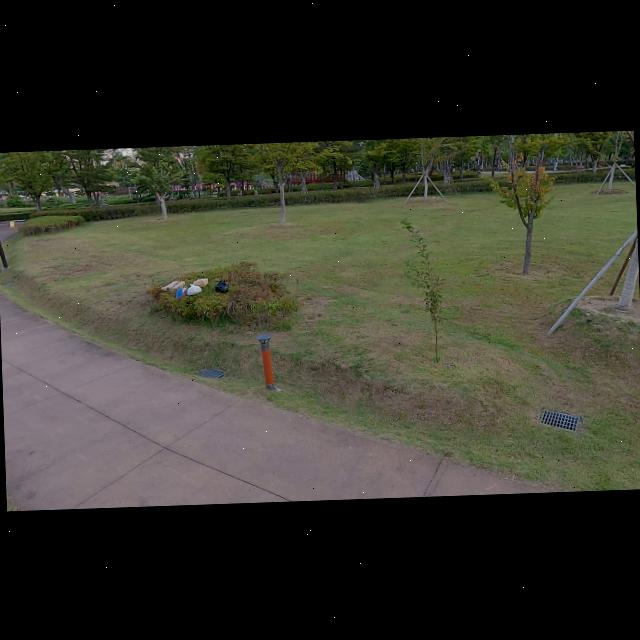trash: (157, 276, 185, 292), (191, 273, 210, 289), (185, 278, 204, 294), (174, 281, 188, 301), (214, 276, 229, 294)
